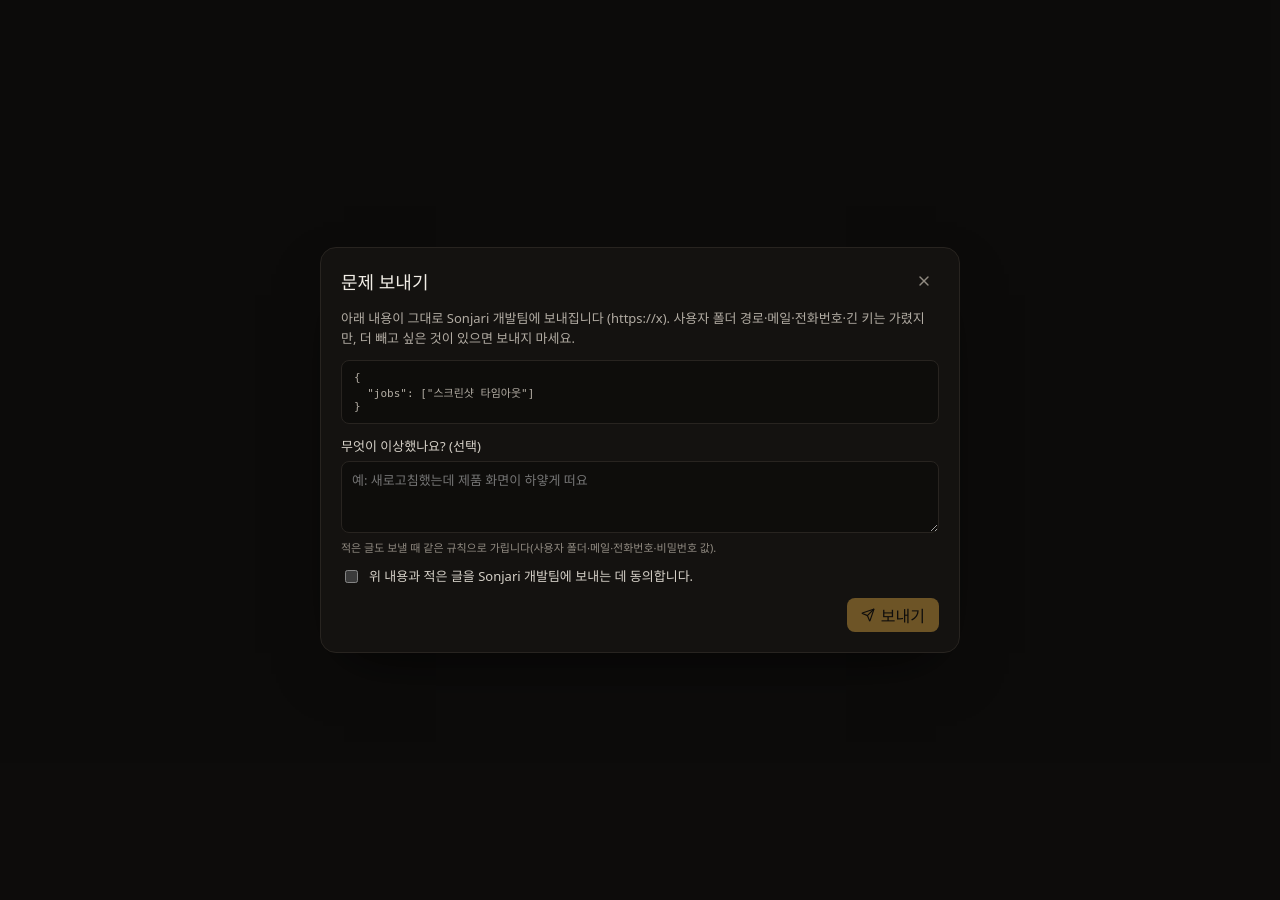
Test: 동의하면 미리보기 번호로 보내고 접수 번호를 말한다
The image size is (1280, 900).
Click the checkbox labelled "위 내용과 적은 글을 Sonjari 개발팀에 보내는 데 동의합니다.". click: [352, 577]
box: [345,570,358,583]
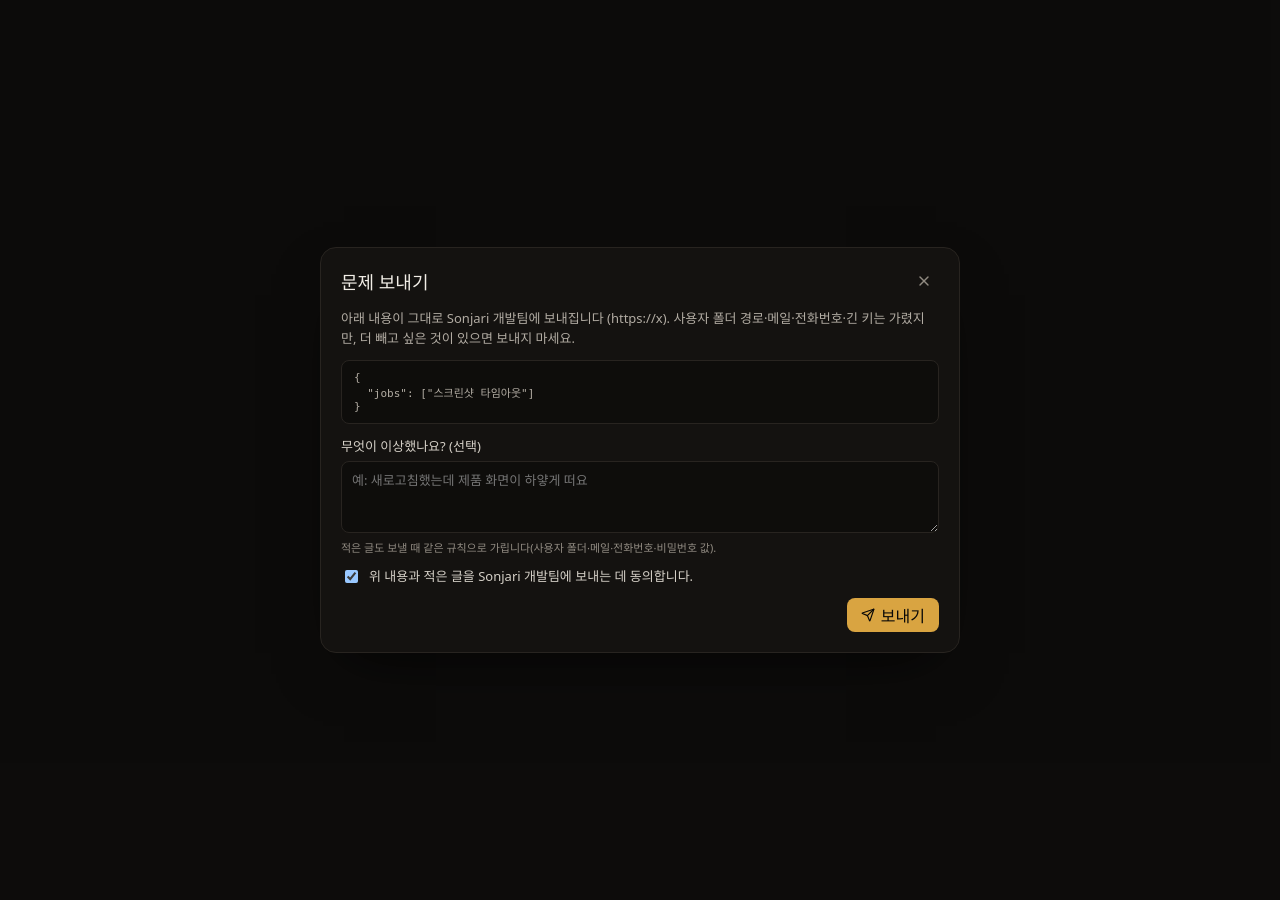
Click the button "보내기". click: [893, 615]
box: [847,598,939,632]
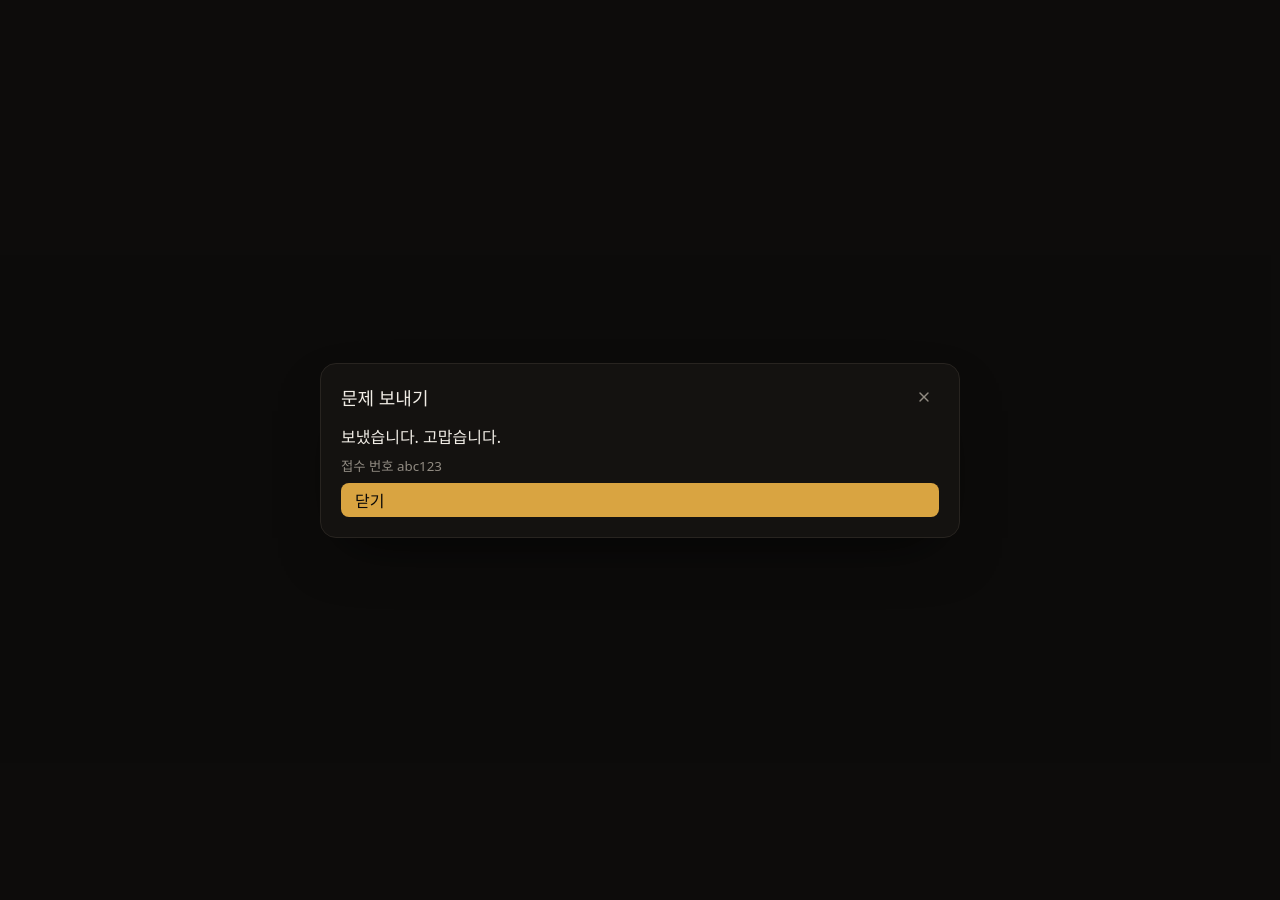
Check: the text "보냈습니다" is shown, box [341,426,501,448]
Check: the text "abc123" is shown, box [397,456,442,474]
